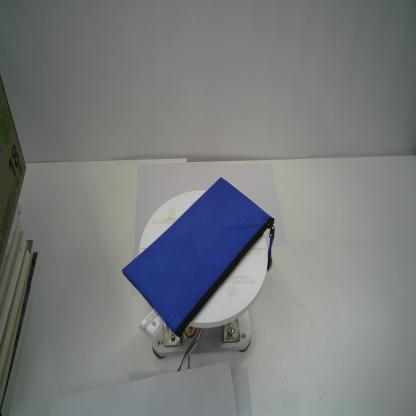Stationery: (121, 177, 275, 337)
